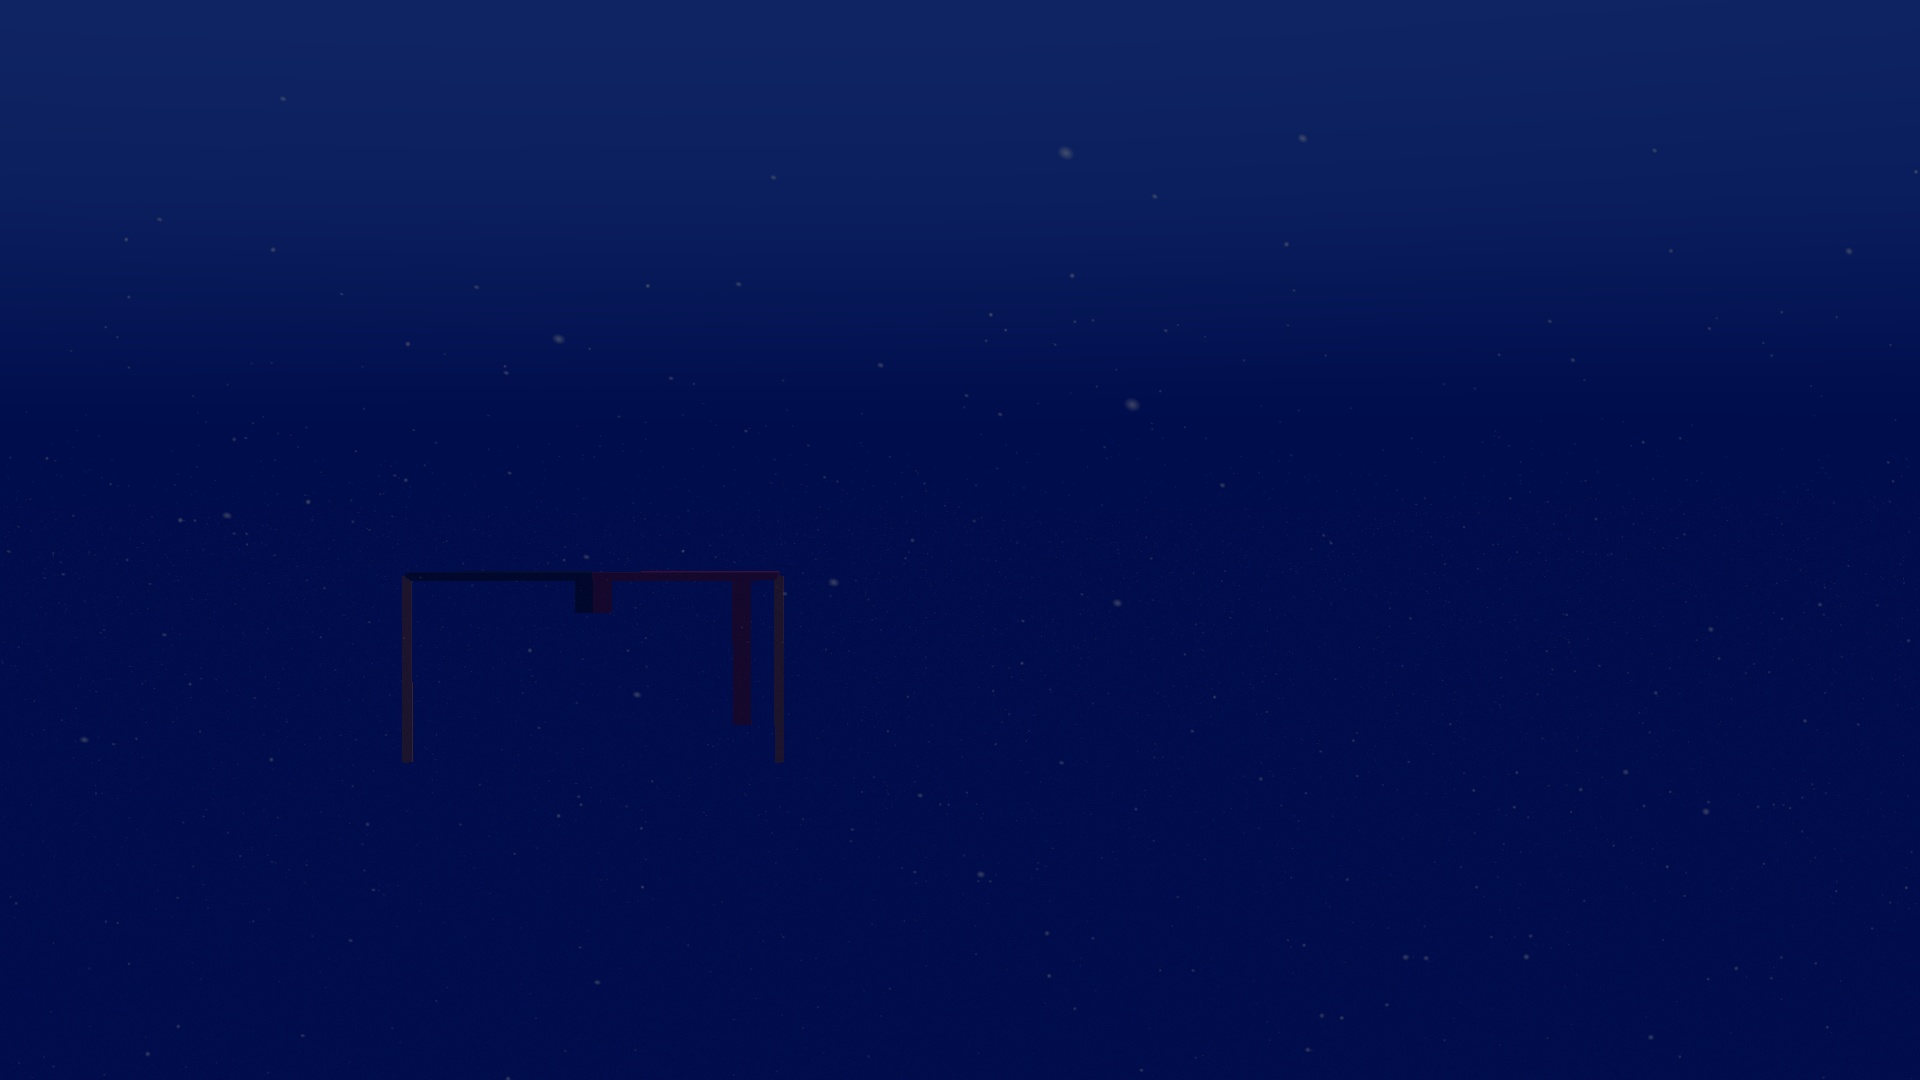Gate: (392, 564, 795, 773)
